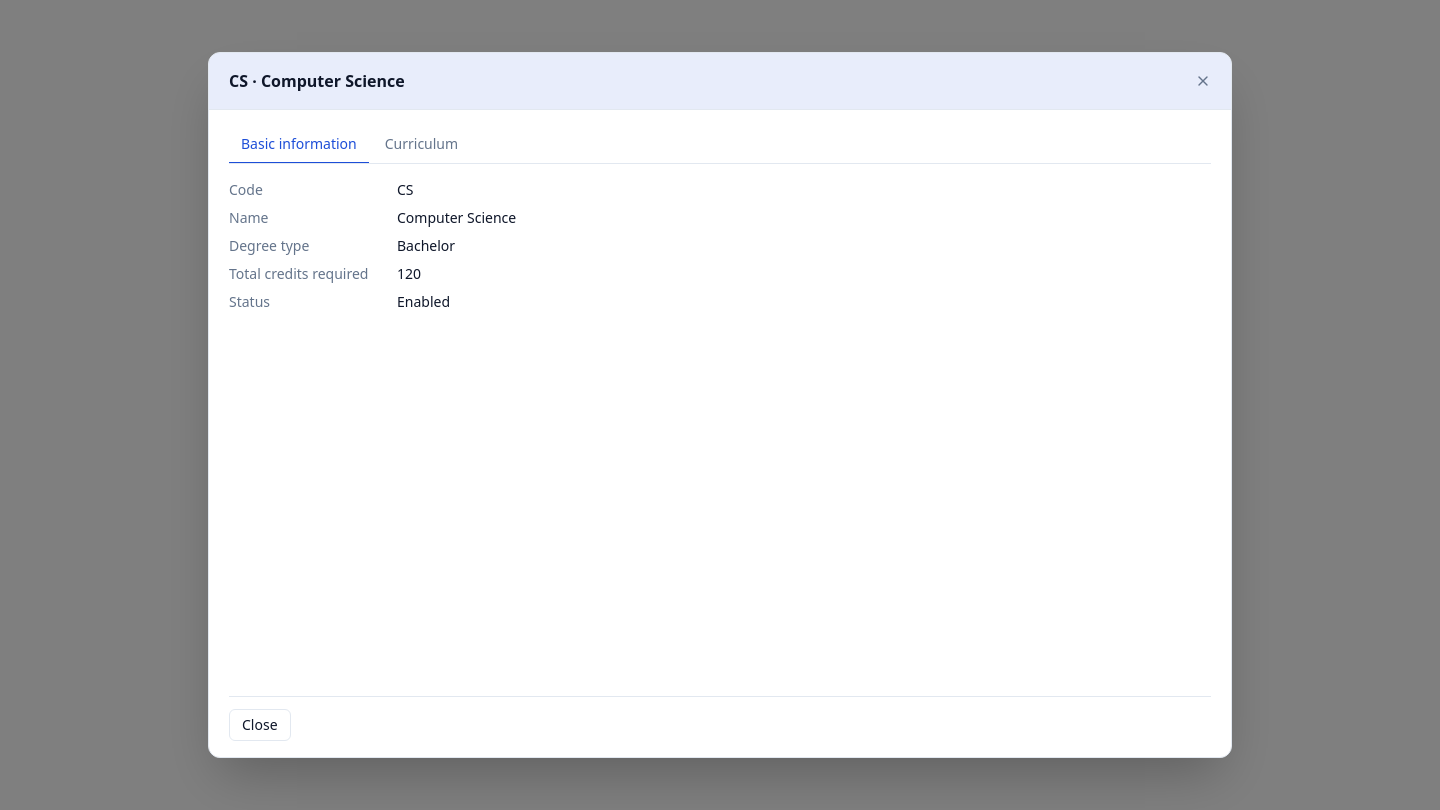
Scenario: major dialog › details are read-only on both tabs: no inputs, no add or remove
Expected: the text "Bachelor" is shown, [397,236,455,255]
Click the tab "Curriculum". click: (421, 145)
box: [373,126,470,164]
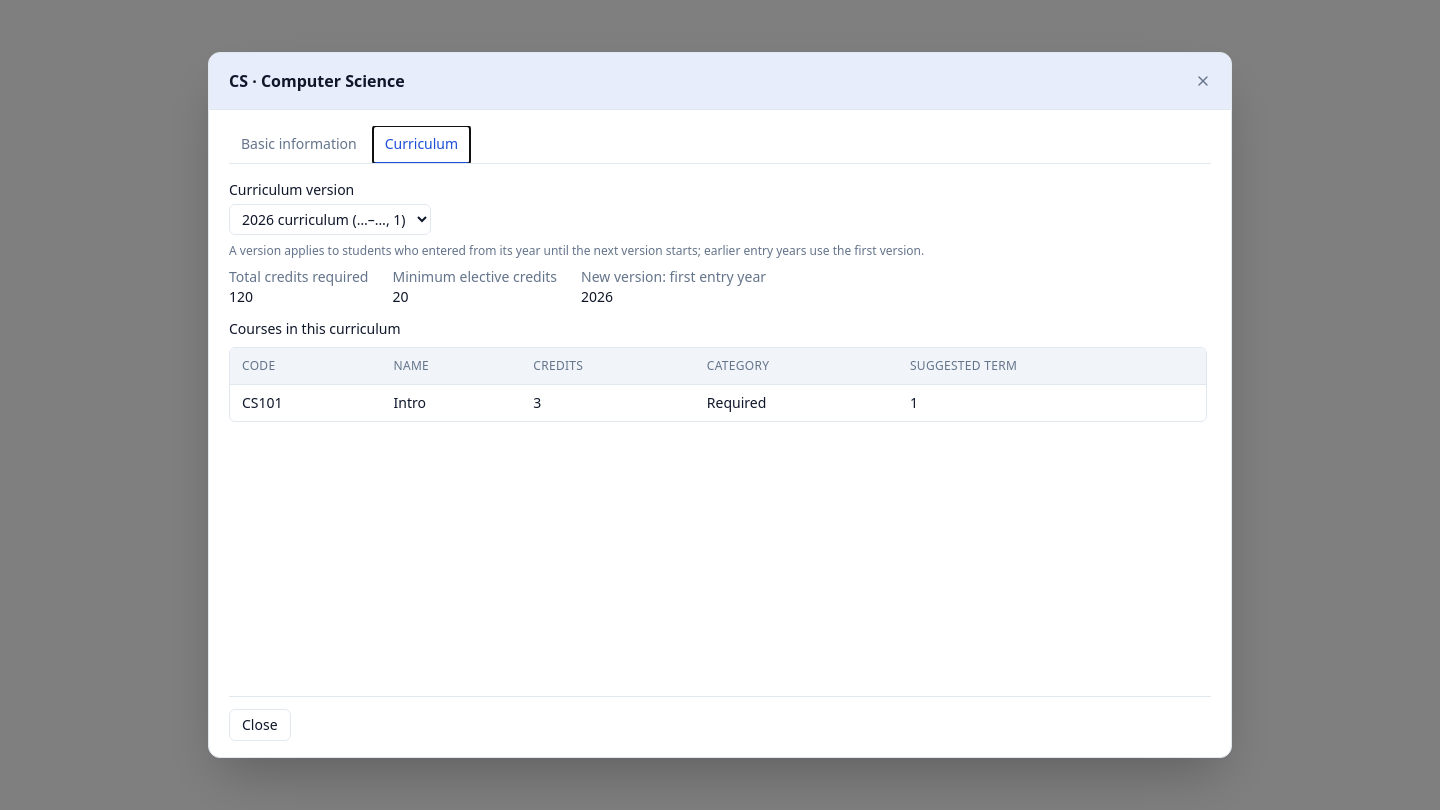
Result: the text "CS101" is shown at [230,384,382,421]
Result: the text "Required" is shown at [695,384,898,421]
